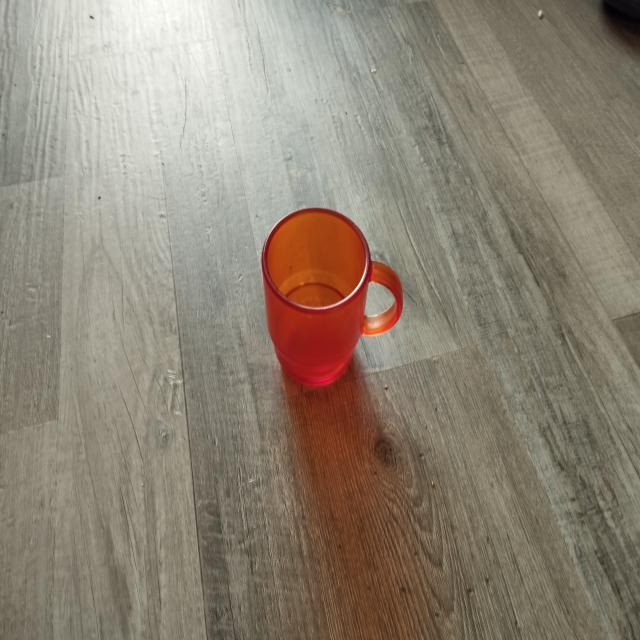Cup: (234, 168, 434, 424)
